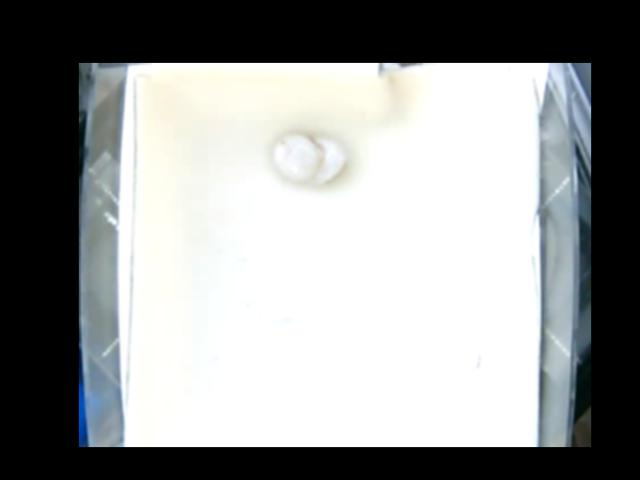Pebble: (275, 129, 343, 182)
